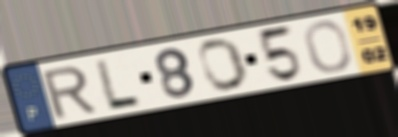5: (251, 24, 303, 84)
8: (153, 46, 198, 100)
L: (92, 57, 144, 110)
O: (197, 37, 251, 93), (302, 19, 354, 75)
R: (39, 63, 99, 121)
